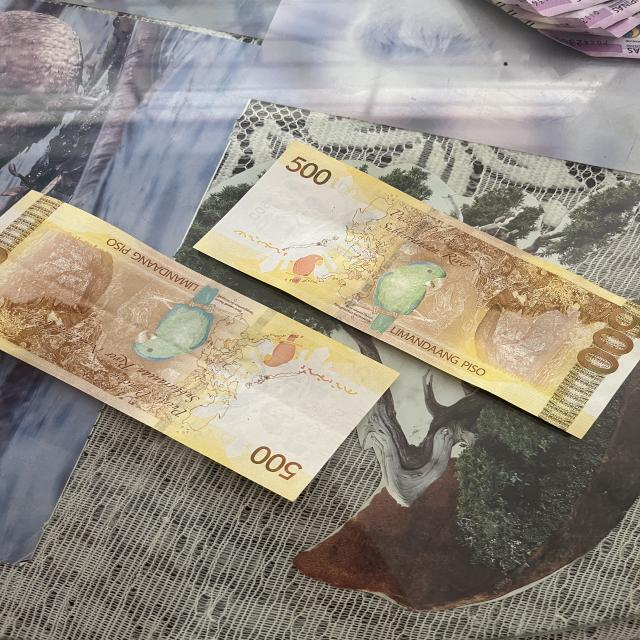500_big_parrot: (352, 261, 453, 331), (136, 287, 220, 362)
500_parrot_watermark: (255, 335, 308, 368), (286, 254, 324, 288)
value_watermark: (321, 407, 351, 432), (246, 197, 273, 222)
watermark: (255, 378, 356, 458), (256, 178, 342, 246)
